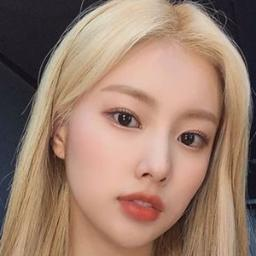face: (65, 56, 219, 246)
